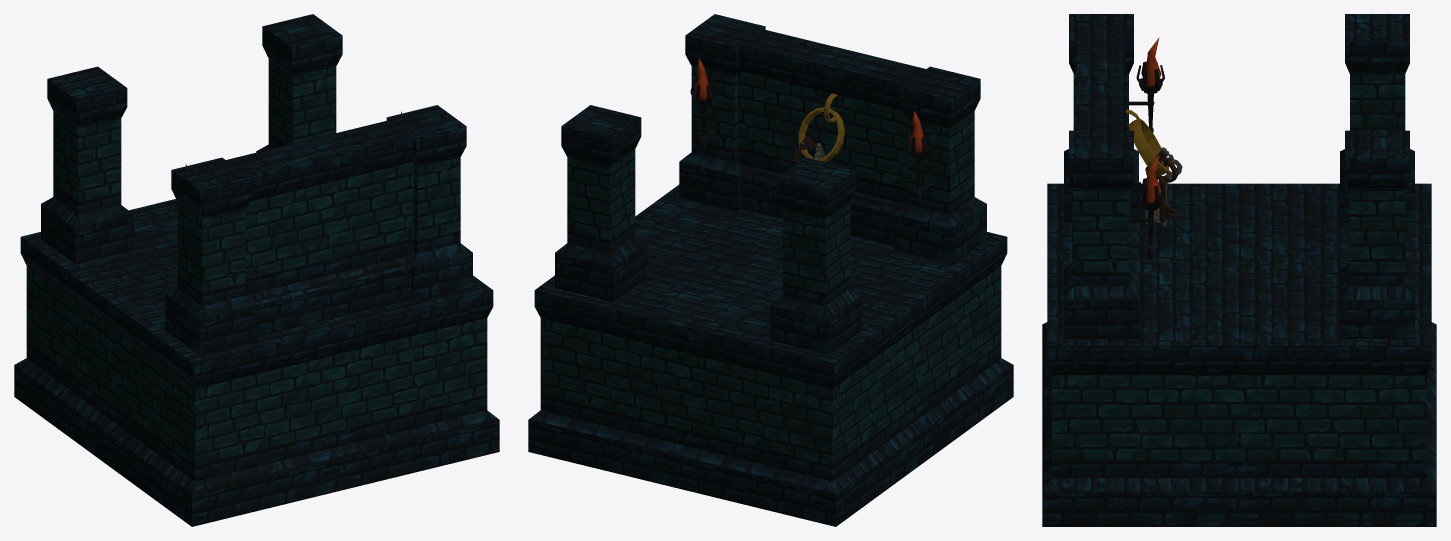
The model's file is tile-key.glb.
3 views of the same model, side by side, from view 1: azimuth 30°, elevation 25°; view 2: azimuth 150°, elevation 25°; view 3: azimuth 270°, elevation 25° (orthographic). The views are drawn at different scales.
Visible parts, largest first — view 1: mergedBlocks(Clone); view 2: mergedBlocks(Clone); view 3: mergedBlocks(Clone).
Boxes of the visible parts, <box> form: mergedBlocks(Clone): <box>14,14,499,526</box>; mergedBlocks(Clone): <box>528,14,1013,526</box>; mergedBlocks(Clone): <box>1042,14,1436,526</box>.
Size of the model in its own units: 2 by 2 by 2.
Materials: 7 (2 with a texture image).
